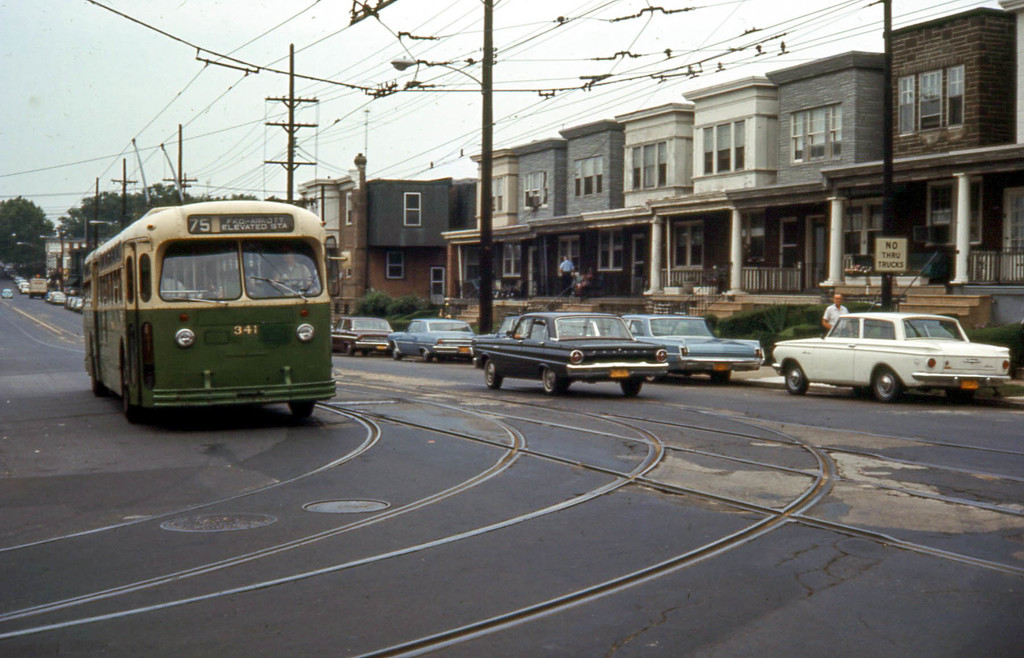Bus: (87, 197, 344, 427)
